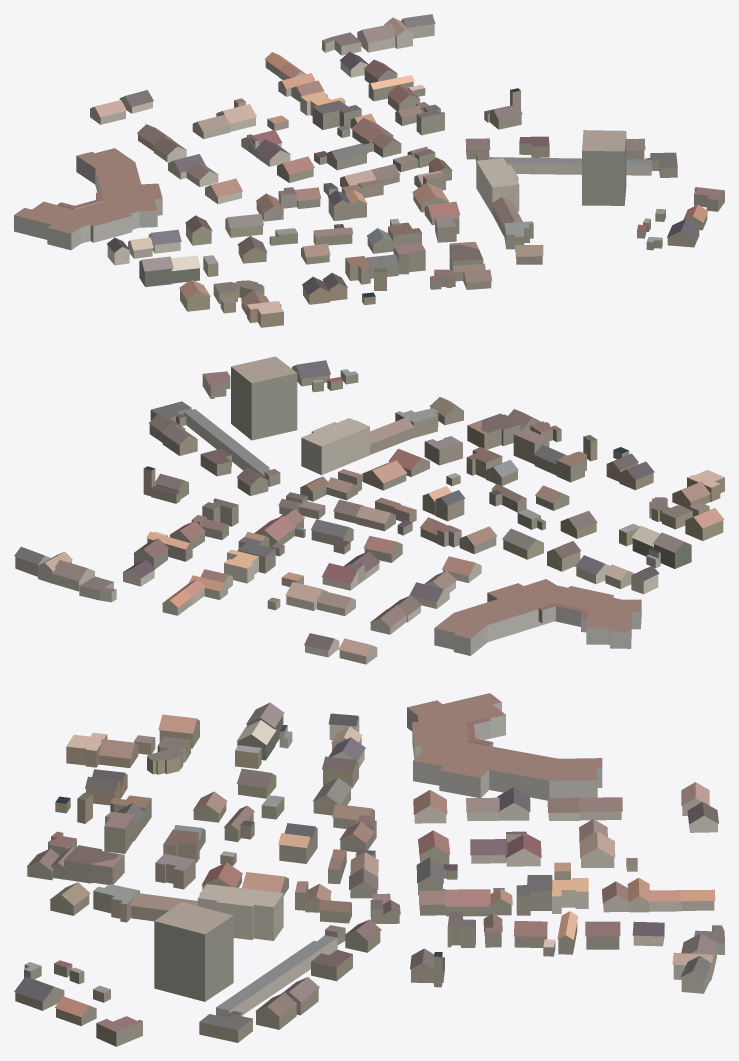
The picture shows the model from 3 angles, top to bottom: view 1: azimuth 30°, elevation 25°; view 2: azimuth 150°, elevation 25°; view 3: azimuth 270°, elevation 25°; orthographic projection. The views are drawn at different scales.
Parts seen in each view (by area): view 1: tuile; view 2: tuile; view 3: tuile.
Boxes of the visible parts, x1,y1,x2,y2 form: tuile: (14, 14, 724, 327); tuile: (14, 356, 724, 664); tuile: (14, 693, 724, 1046).
Size of the model in its own units: 274 by 29.85 by 244.
